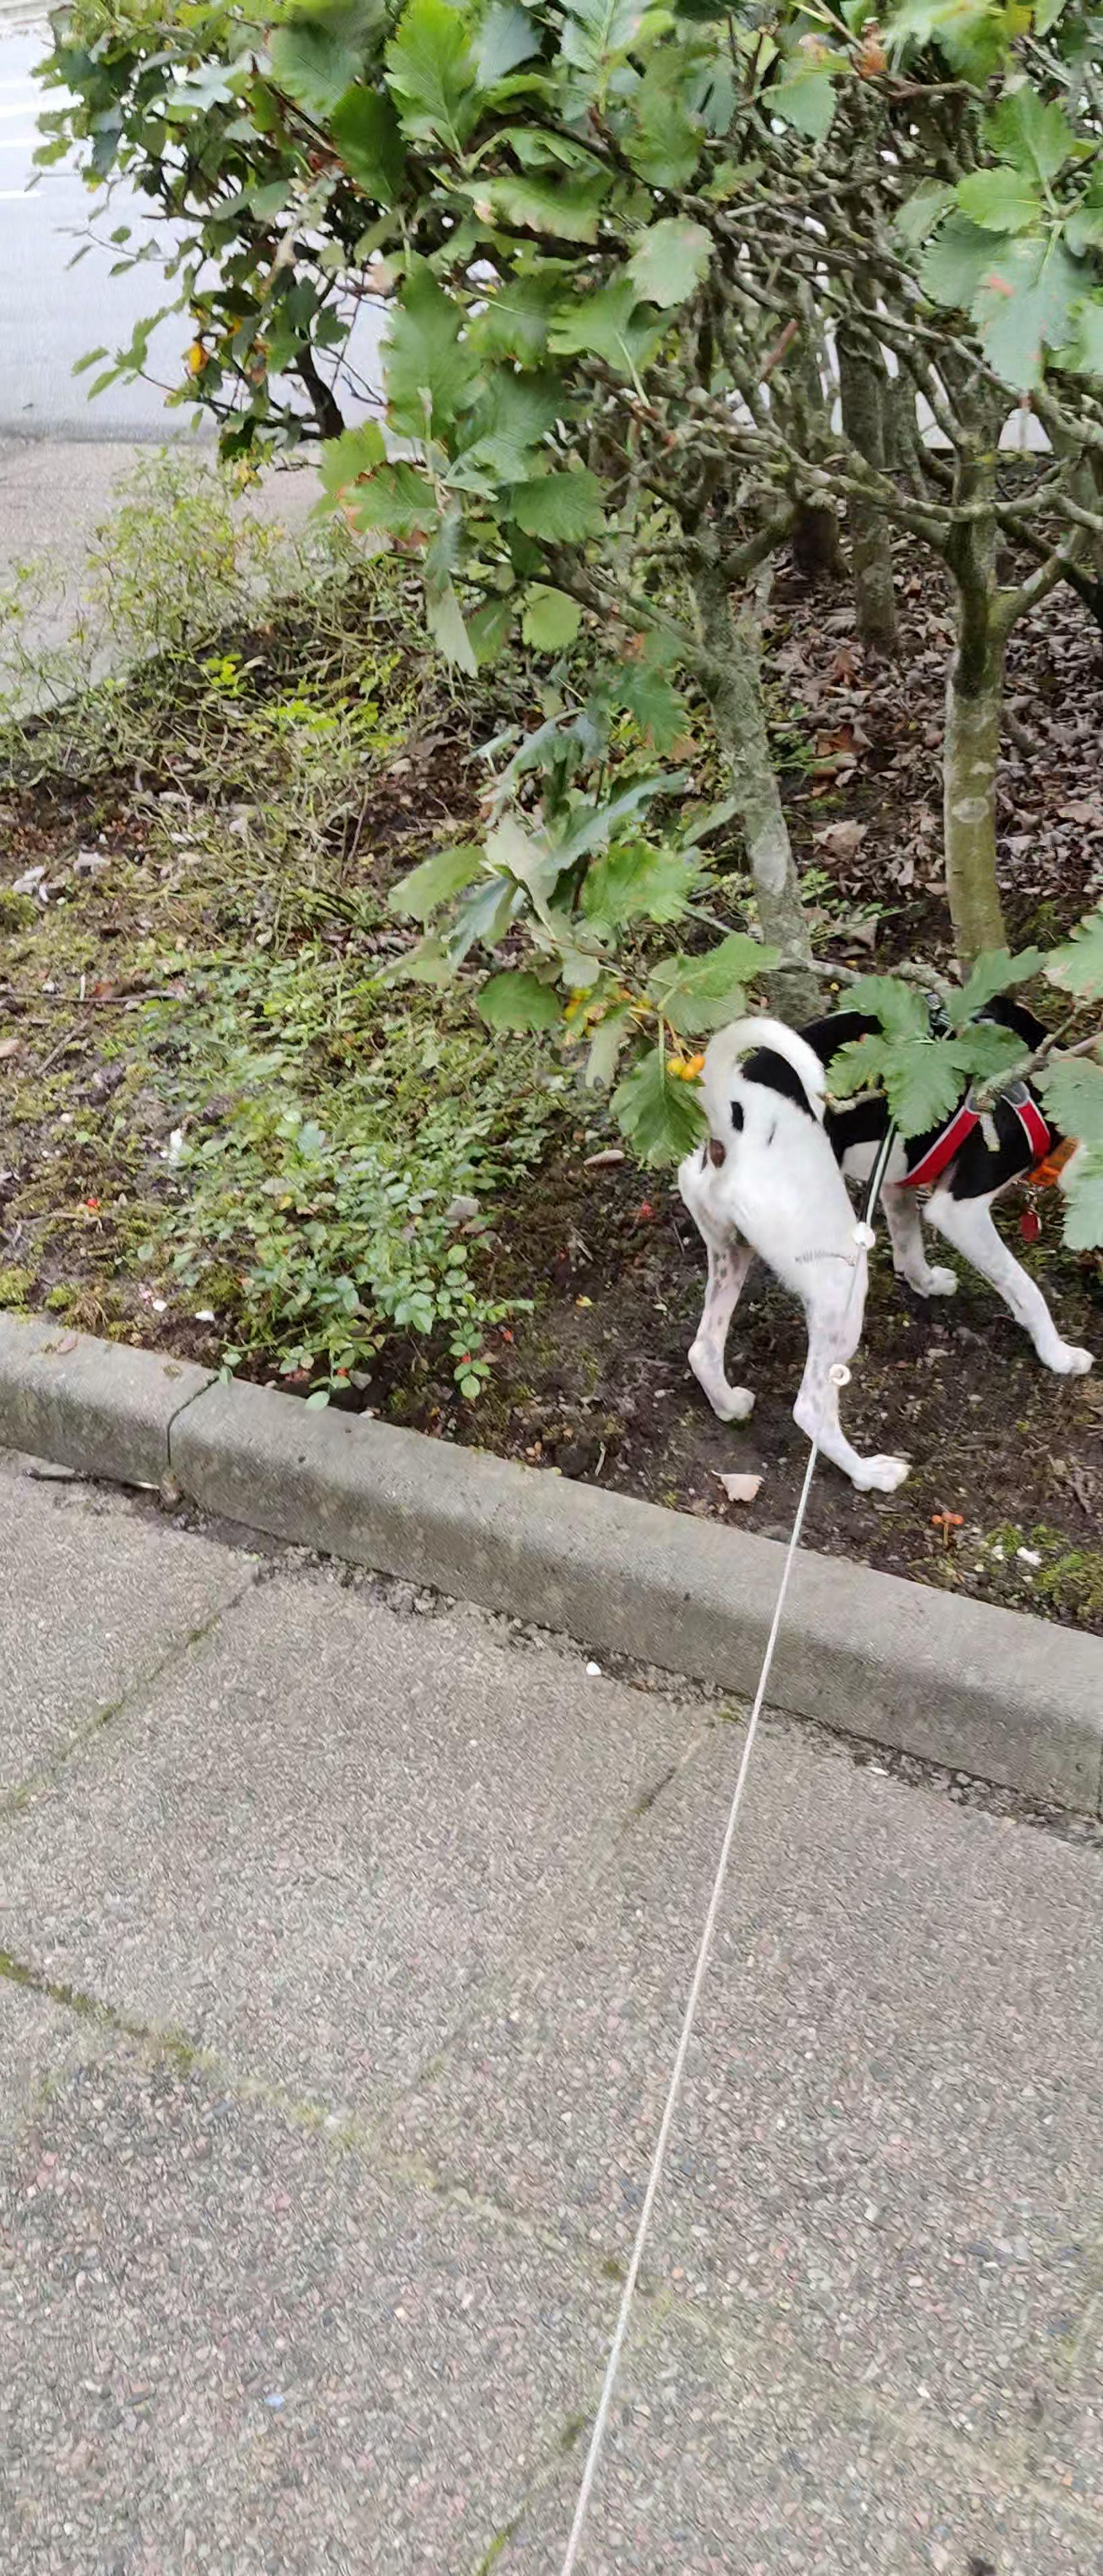Dog: (658, 981, 1103, 1492)
